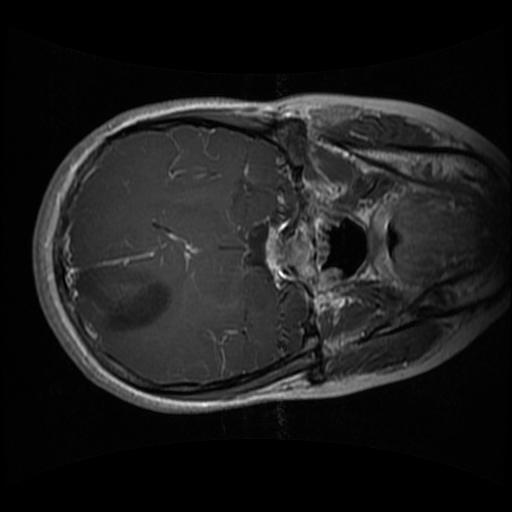glioma: (70, 265, 175, 335)
